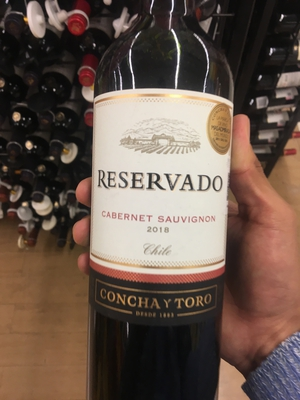reservado cabernet sauvignon: (89, 11, 235, 400)
